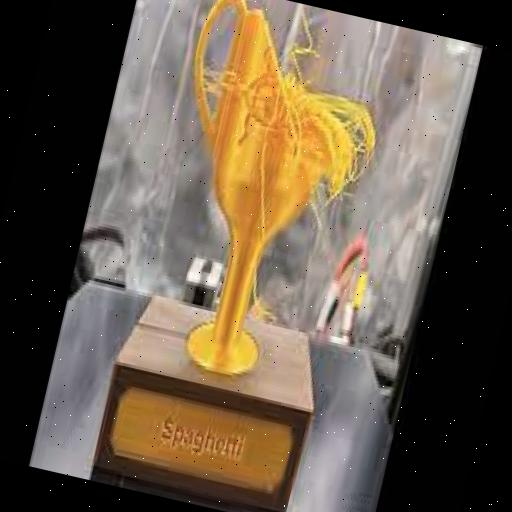spaghetti: (254, 24, 396, 216), (194, 56, 280, 120)
